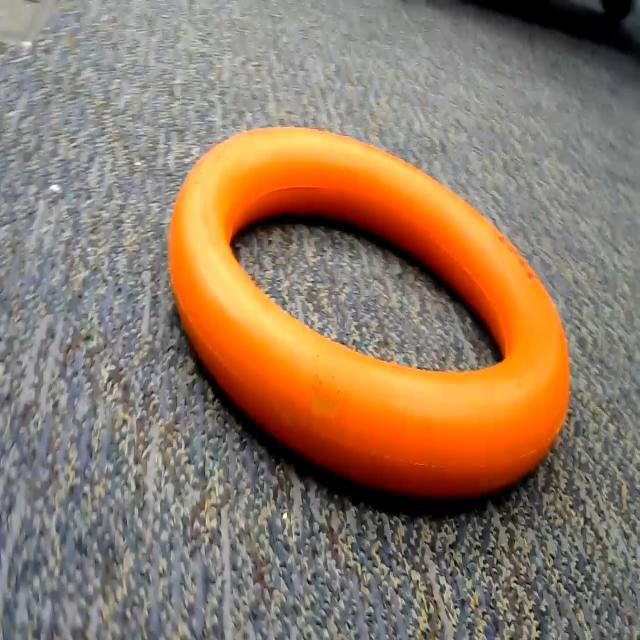note: (157, 108, 578, 522)
